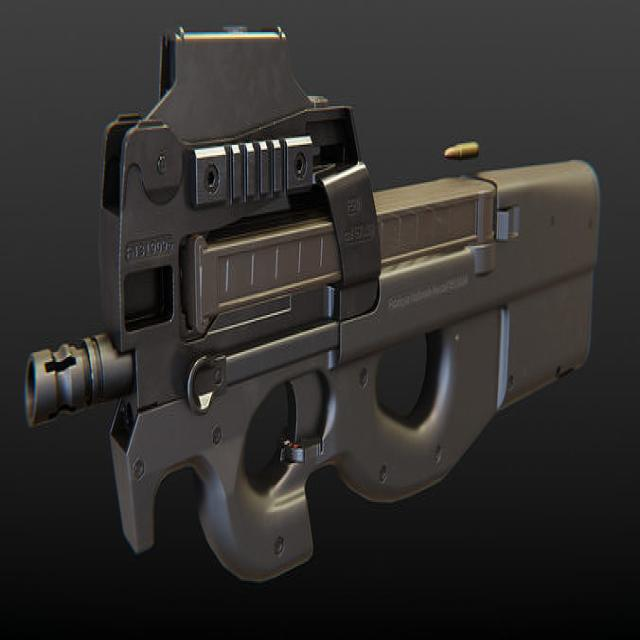SMG: (24, 27, 603, 588)
